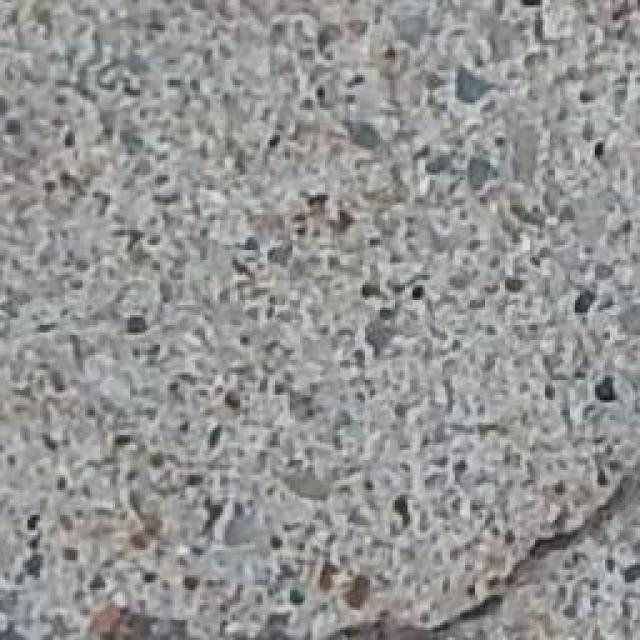concrete-crack: (321, 432, 640, 640)
